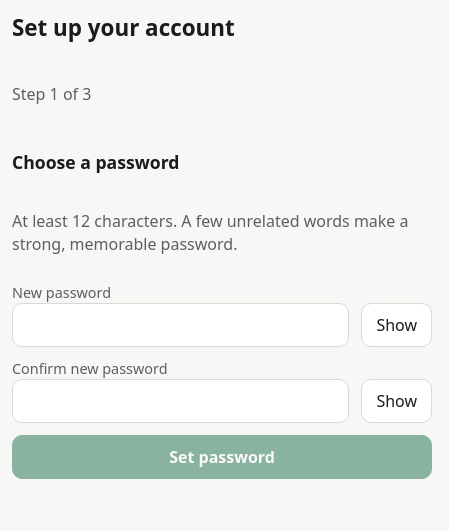
SetupFlow › password step › catches a mistyped confirmation before sending
Type "a long and private passphrase" into the password field labelled "New password".
click(181, 325); type("a long and private passphrase")  # box [12,303,349,347]
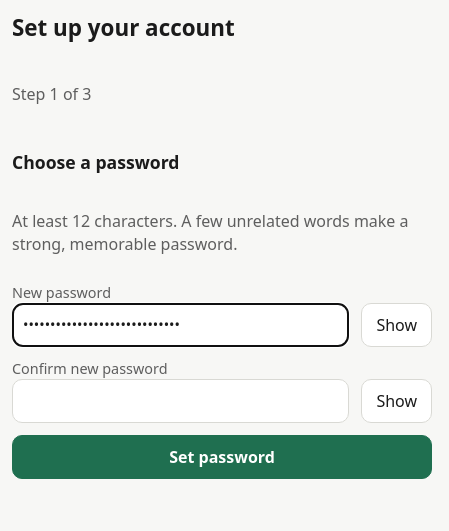
Type "a long and private passphrasf" into the password field labelled "Confirm new password".
click(181, 402); type("a long and private passphrasf")  # box [12,380,349,424]
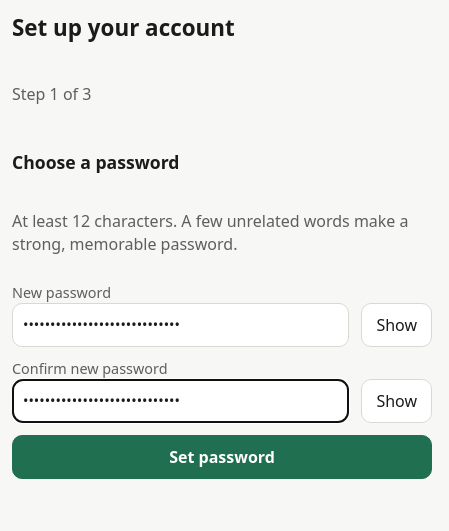
Click the button "Set password".
click(222, 458)  # box [12,436,432,480]
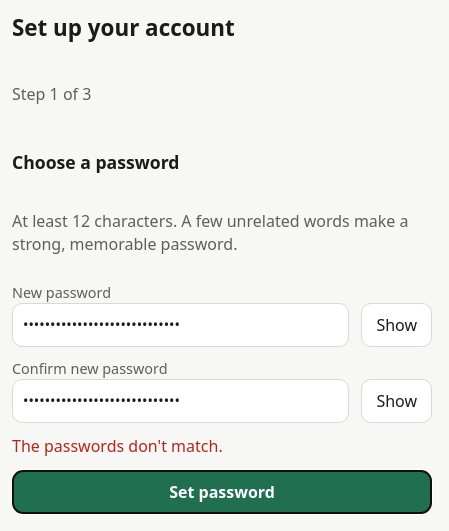
Expected: the message reads "The passwords don't match.", [12,436,223,458]
